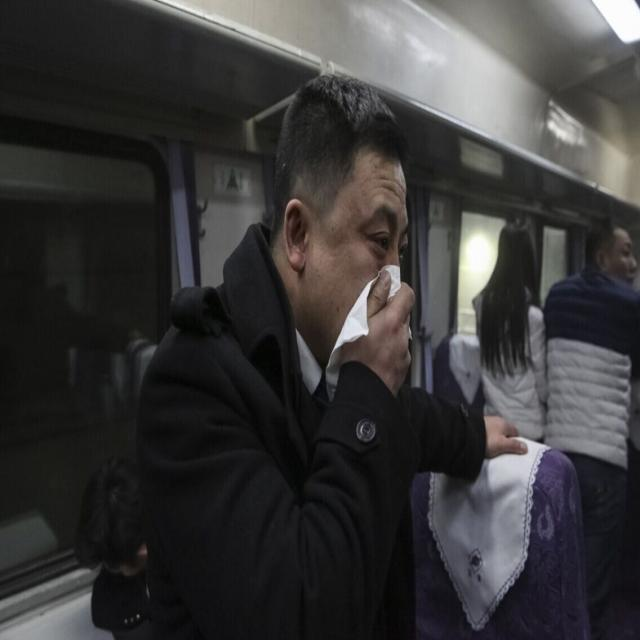mask: (604, 233, 634, 281)
nomask: (308, 148, 411, 363)
